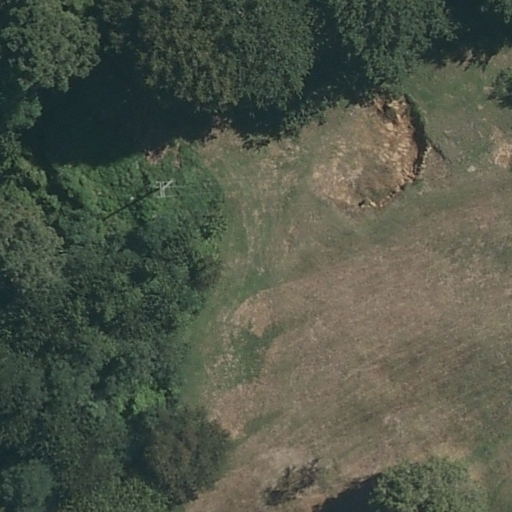DT: (155, 180, 173, 200)
